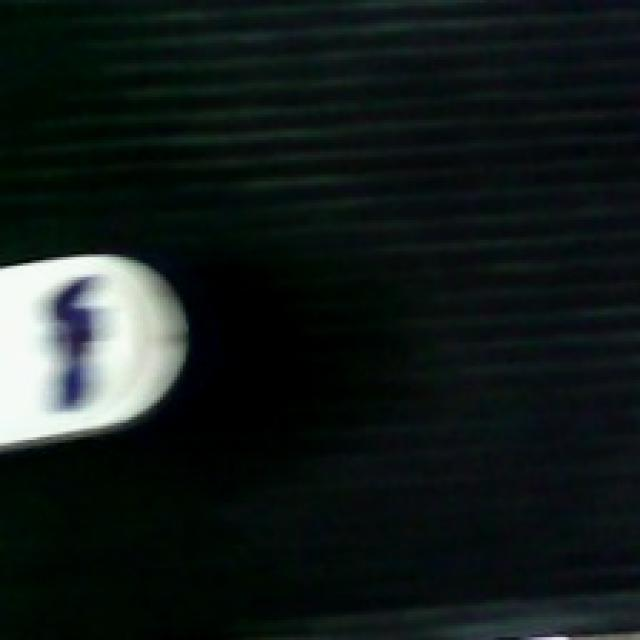defected: (3, 243, 197, 457)
